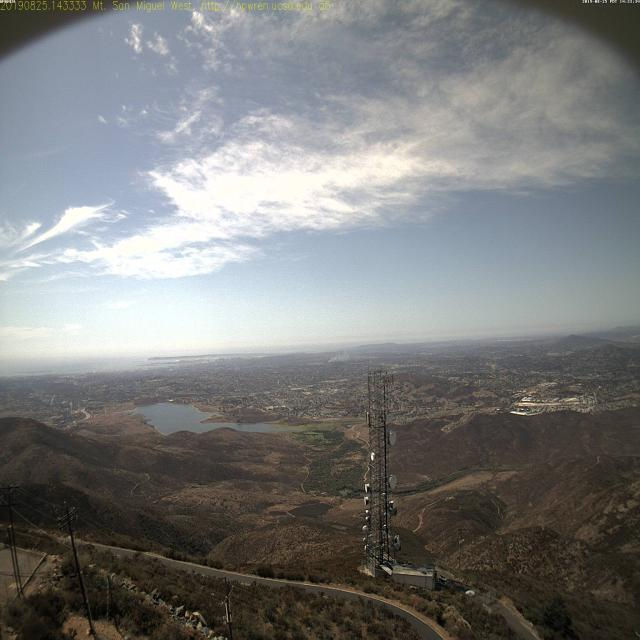smoke: (325, 341, 352, 367)
